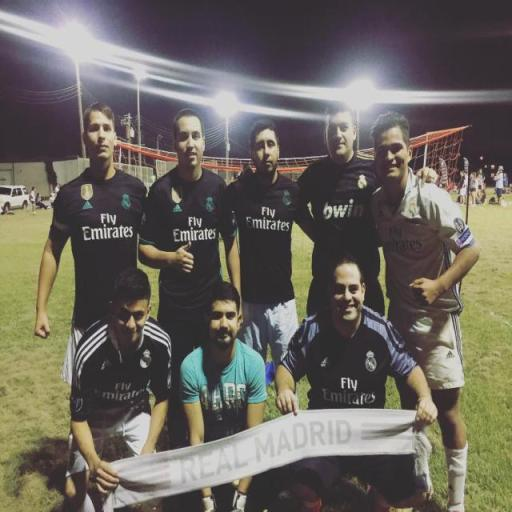Adidas: (170, 203, 182, 213), (81, 201, 94, 210)
Emirates: (322, 375, 378, 406), (79, 211, 134, 242), (170, 215, 217, 244), (244, 206, 291, 234)
